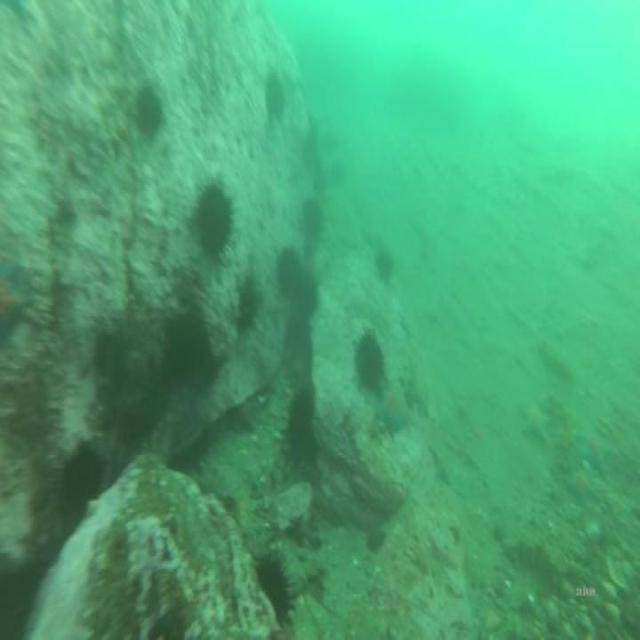echinus: (190, 169, 238, 267), (164, 302, 214, 384), (58, 446, 100, 523), (256, 546, 294, 630), (284, 385, 320, 471), (351, 326, 387, 398), (272, 237, 308, 299), (135, 79, 167, 139), (261, 70, 288, 128), (303, 194, 323, 245), (372, 242, 394, 288)
holothurian: (502, 537, 550, 575)
starfish: (571, 424, 617, 481), (375, 379, 408, 441), (518, 395, 548, 447)
